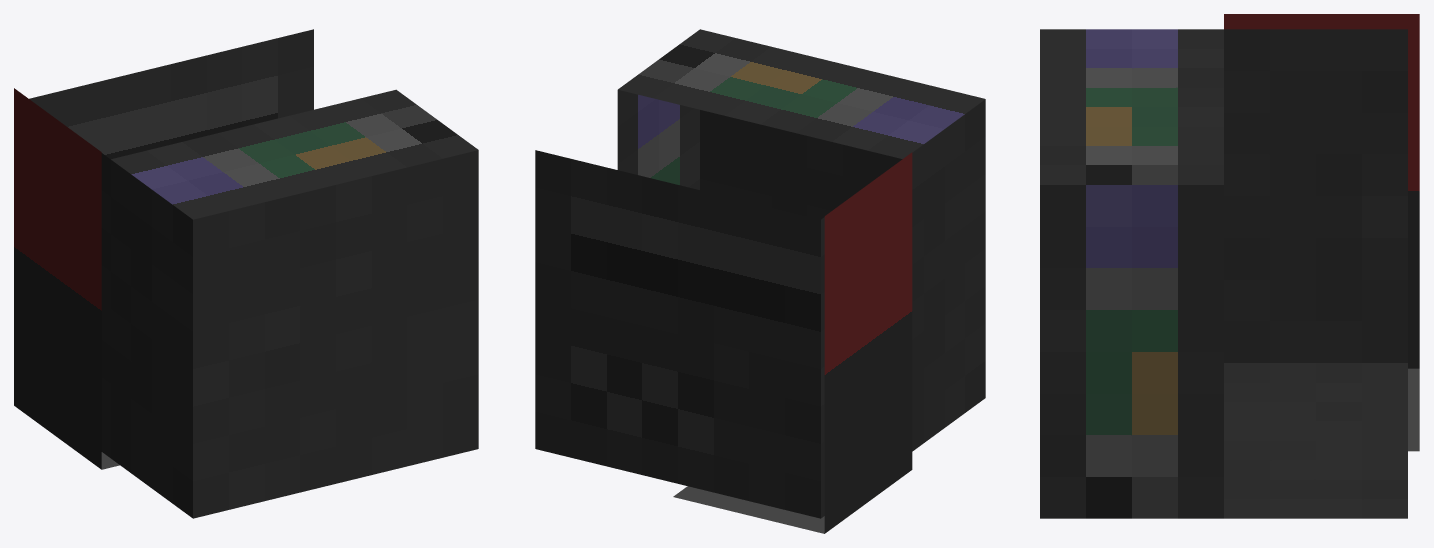
File: prank_head_cc.obj
3 renders of one model, left to right at view 1: azimuth 30°, elevation 25°; view 2: azimuth 150°, elevation 25°; view 3: azimuth 270°, elevation 25°, orthographic. The views are drawn at different scales.
Parts seen in each view (by area): view 1: head, layer; view 2: head, layer; view 3: head, layer.
Boxes of the visible parts, x1,y1,x2,y2 form: head: [29, 29, 478, 518]; layer: [14, 88, 119, 469]; head: [535, 29, 985, 518]; layer: [673, 152, 912, 533]; head: [1040, 29, 1407, 518]; layer: [1224, 14, 1419, 451].
Size of the model in its own units: 68 by 68 by 68.
